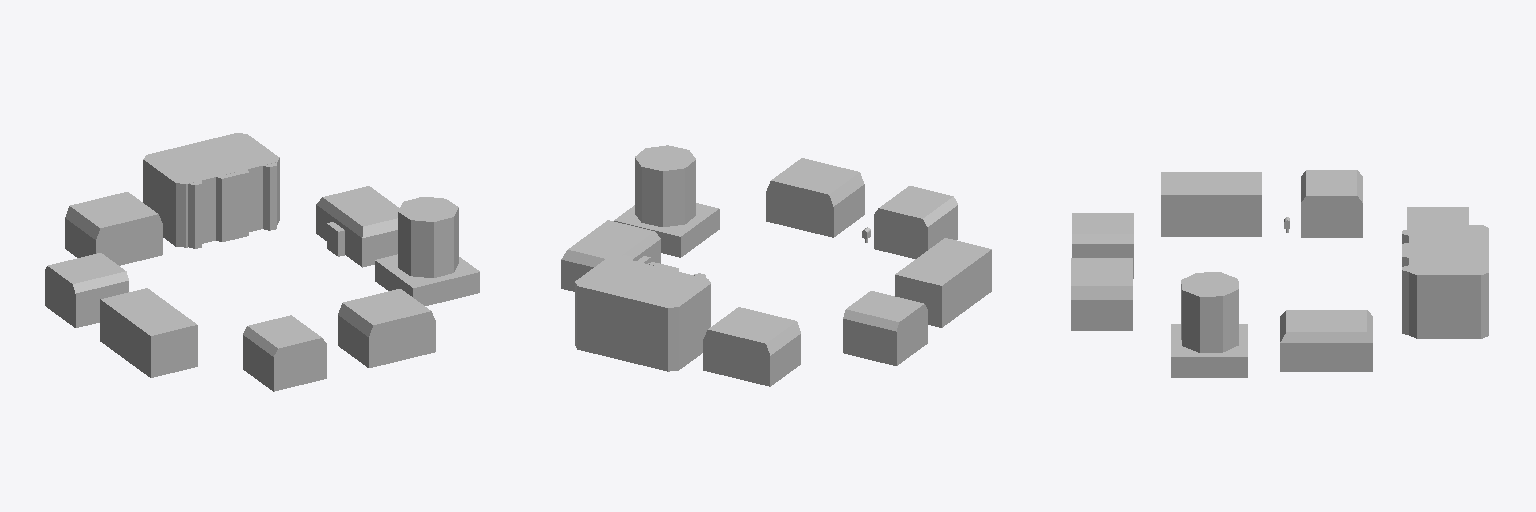
The model's file is PuebloCentro.obj.
3 views of the same model, side by side, from view 1: azimuth 30°, elevation 25°; view 2: azimuth 150°, elevation 25°; view 3: azimuth 270°, elevation 25° (orthographic).
Parts seen in each view (by area): view 1: CentroComercial, Laboratorio, Tienda, CentroP, Casa2, Gymnasio, Torre, Casa, BaseTorre, VentanaCenCentro001, VentanaDerCentro, VentanaIzqCentro (+1 smaller); view 2: CentroComercial, Tienda, CentroP, Laboratorio, Casa, Casa2, Torre, Gymnasio, BaseTorre; view 3: CentroComercial, Laboratorio, Gymnasio, Tienda, Torre, Casa, Casa2, BaseTorre, CentroP.
Part boxes in pixels (x1,y1,x2,y2): CentroComercial: (143,133,279,247); Laboratorio: (100,288,197,377); Tienda: (338,289,435,367); CentroP: (65,192,162,265); Casa2: (243,315,326,391); Gymnasio: (316,186,399,267); Torre: (398,197,458,277); Casa: (45,253,128,327); BaseTorre: (375,254,479,305); VentanaCenCentro001: (216,169,248,241); VentanaDerCentro: (263,162,276,230); VentanaIzqCentro: (188,181,201,248); CentroComercial: (575,257,710,371); Tienda: (766,158,864,237); CentroP: (703,307,800,386); Laboratorio: (895,238,991,327); Casa: (843,291,927,365); Casa2: (874,186,957,258); Torre: (635,145,695,226); Gymnasio: (561,220,660,291); BaseTorre: (614,203,719,257); CentroComercial: (1409,225,1488,338); Laboratorio: (1161,172,1261,236); Gymnasio: (1280,310,1372,371); Tienda: (1071,258,1132,330); Torre: (1181,272,1238,352); Casa: (1301,170,1362,237); Casa2: (1072,213,1133,278); BaseTorre: (1171,324,1247,377); CentroP: (1407,207,1468,228).
Bounding box in the file's own units: 99.79 × 21.65 × 106.